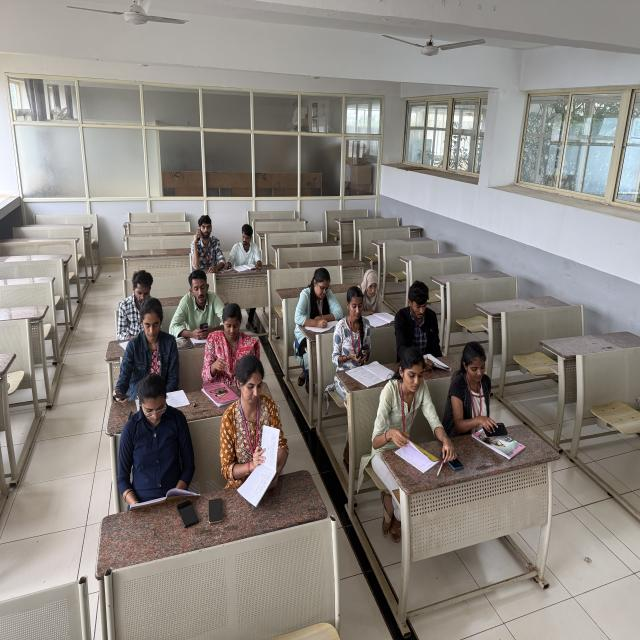Reading: (108, 374, 204, 518), (211, 355, 290, 505), (367, 342, 445, 464), (394, 276, 446, 371), (358, 263, 399, 333), (224, 218, 268, 279)
Using Phone: (109, 297, 188, 407), (447, 337, 508, 451), (170, 267, 227, 350), (331, 286, 379, 382), (185, 212, 226, 272)
Writing: (292, 263, 343, 347)
